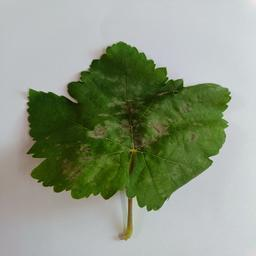Powdery-Mildew: (147, 99, 202, 149), (60, 143, 96, 180), (94, 70, 133, 100), (92, 109, 126, 137)
